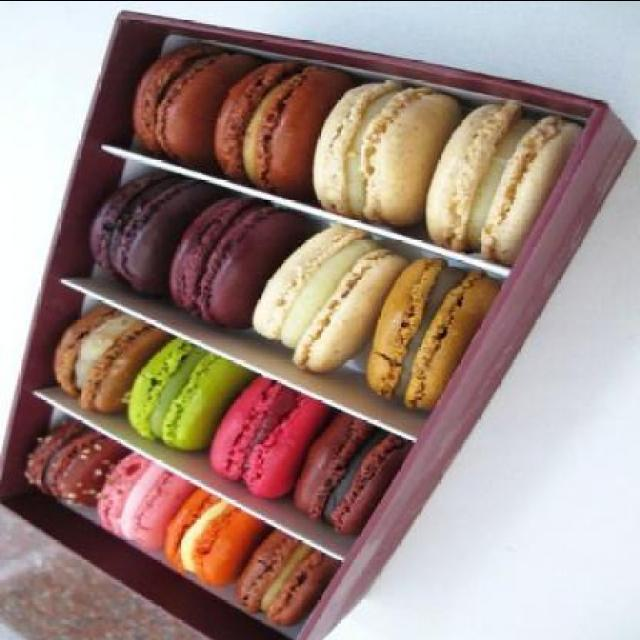Macaron: (4, 52, 582, 626)
